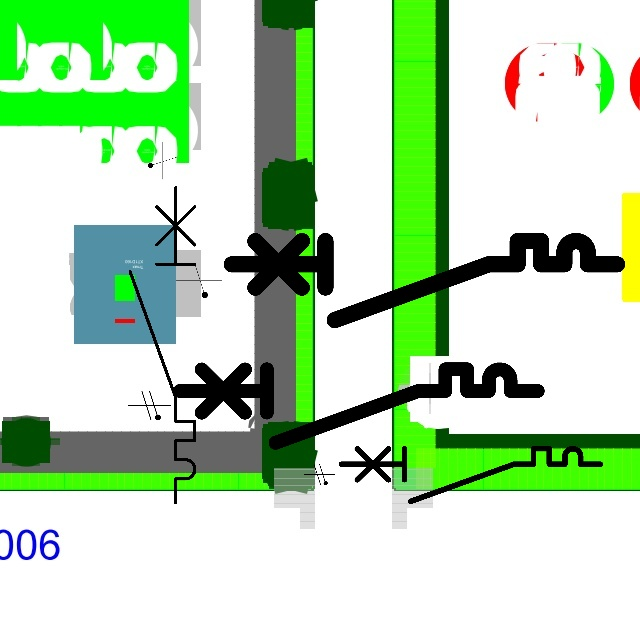interruptor_termomagnetico: (221, 231, 626, 330), (170, 360, 547, 452), (122, 179, 203, 511), (334, 442, 606, 508)
